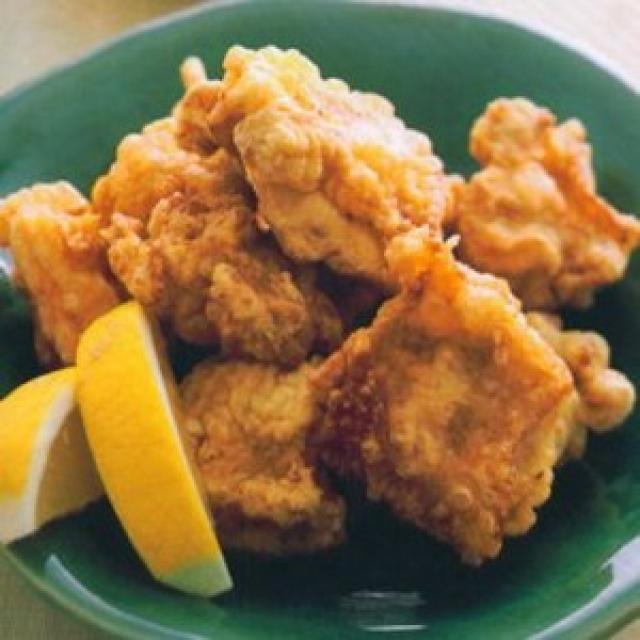鸡肉料理 含炸鸡: (17, 24, 617, 625)
